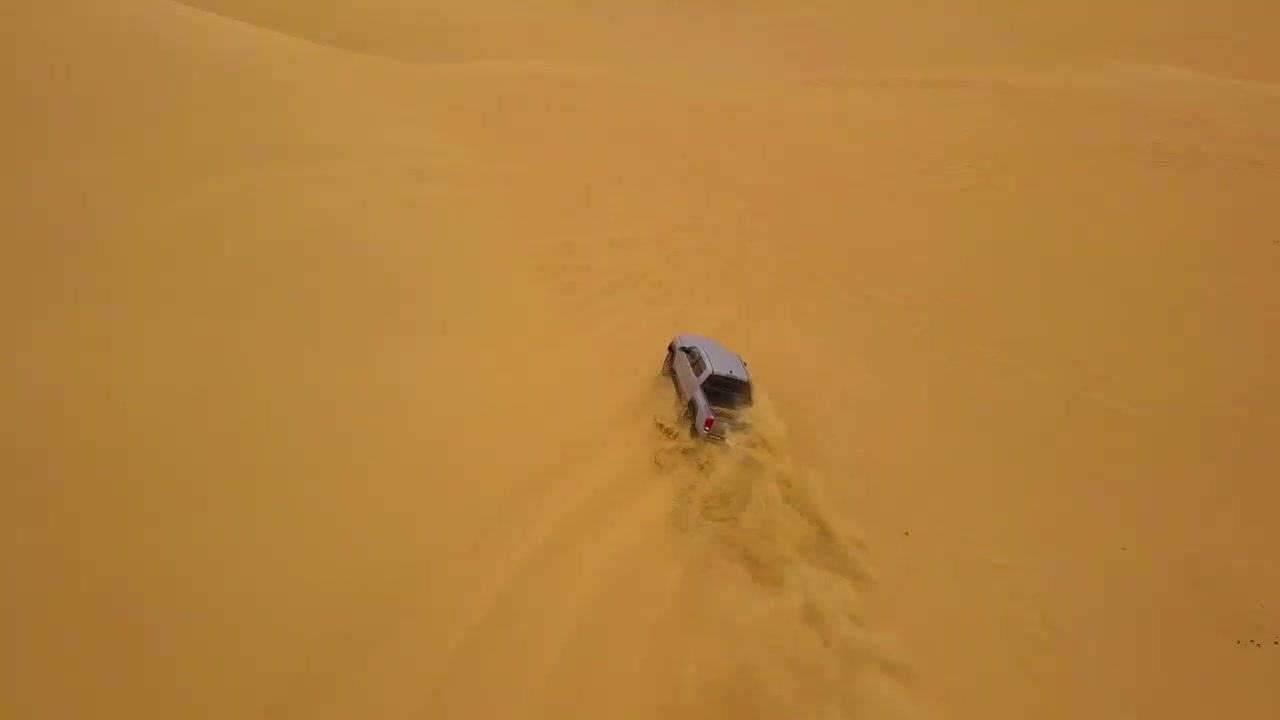vehicle_track: (437, 395, 709, 719)
